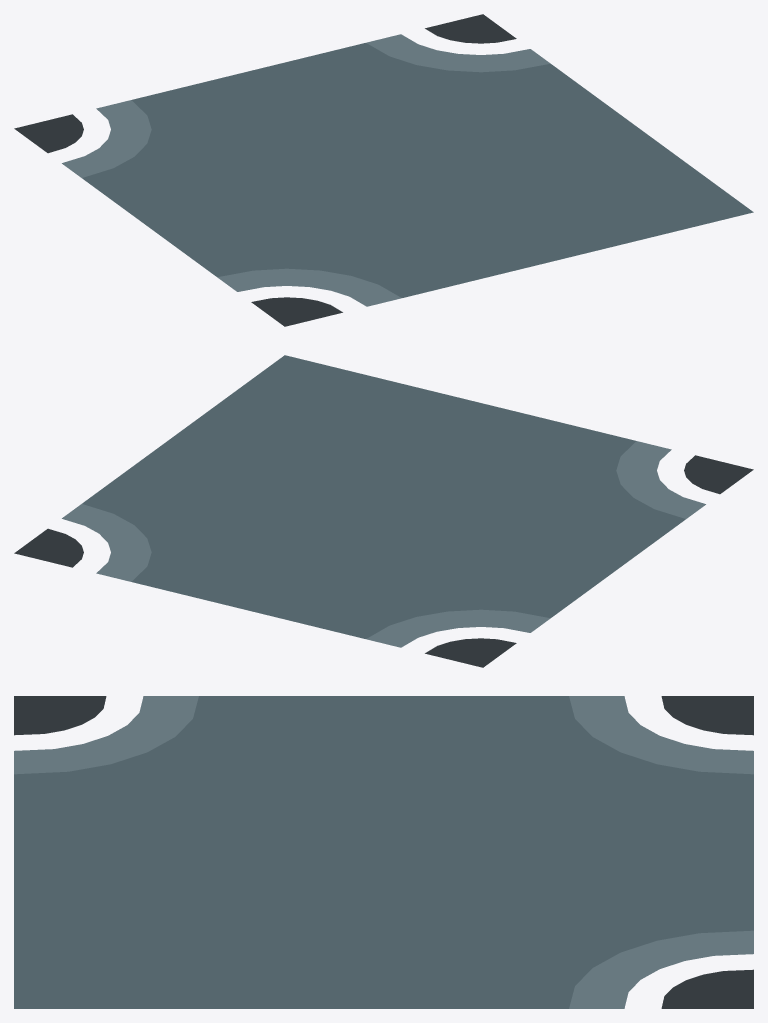
The model's file is Ceiling_type_C_017.glb.
The picture shows the model from 3 angles, top to bottom: view 1: azimuth 30°, elevation 25°; view 2: azimuth 150°, elevation 25°; view 3: azimuth 270°, elevation 25°; orthographic projection. The views are drawn at different scales.
Visible parts, largest first — view 1: Ceiling_type_C_017; view 2: Ceiling_type_C_017; view 3: Ceiling_type_C_017.
Boxes of the visible parts, left/top/right/bottom form: Ceiling_type_C_017: left=14, top=14, right=753, bottom=326; Ceiling_type_C_017: left=14, top=355, right=753, bottom=667; Ceiling_type_C_017: left=14, top=696, right=753, bottom=1008.
Size of the model in its own units: 4 by 0.0566 by 4.
2 materials, 2 textured.
